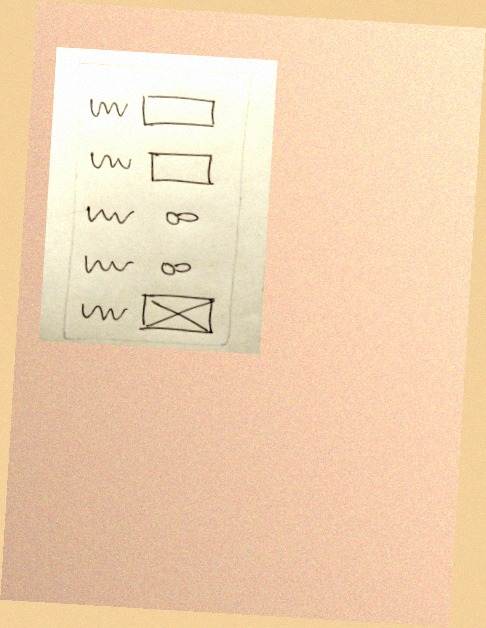image: (134, 288, 220, 341)
switch: (160, 204, 204, 232), (154, 255, 198, 281)
text: (81, 200, 141, 230), (85, 146, 137, 180), (80, 251, 138, 280), (84, 91, 133, 123), (76, 297, 130, 326)
text_input: (135, 88, 224, 134), (142, 146, 223, 191)
